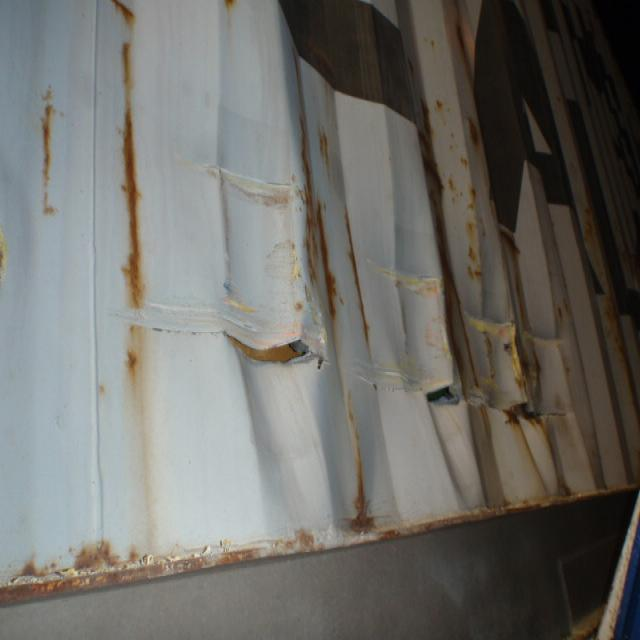dent: (215, 1, 356, 525), (353, 241, 588, 496)
